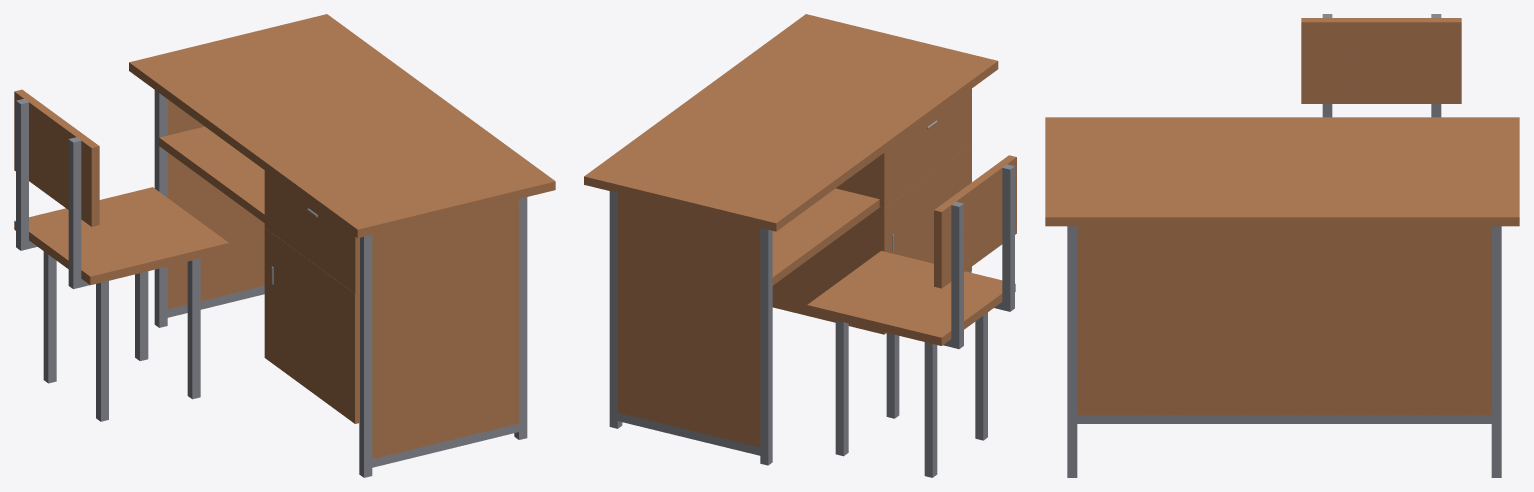
The model's file is bangv.glb.
3 renders of one model, left to right at view 1: azimuth 30°, elevation 25°; view 2: azimuth 150°, elevation 25°; view 3: azimuth 270°, elevation 25°, orthographic. The views are drawn at different scales.
Parts seen in each view (by area): view 1: Cube.019, Cube.024, Cube.026, Cube.017, Cube.029, Cube.020, Cube.023, Cube.027, Cube.031, Cube.025; view 2: Cube.019, Cube.023, Cube.025, Cube.017, Cube.029, Cube.020, Cube.027, Cube.031, Cube.026; view 3: Cube.016, Cube.019, Cube.031, Cube.020.
Boxes of the visible parts, x1,y1,x2,y2 form: Cube.019: (129,14,555,238); Cube.024: (372,199,518,459); Cube.026: (264,228,359,423); Cube.017: (16,99,200,421); Cube.029: (14,187,228,285); Cube.020: (154,90,527,477); Cube.023: (167,99,264,309); Cube.027: (264,170,359,293); Cube.031: (14,89,99,226); Cube.025: (159,126,264,222); Cube.019: (584,14,998,231); Cube.023: (617,193,760,447); Cube.025: (772,156,879,333); Cube.017: (835,164,1014,477); Cube.029: (807,251,1015,345); Cube.020: (609,191,971,465); Cube.027: (879,89,971,208); Cube.031: (934,155,1016,288); Cube.026: (879,144,971,334); Cube.016: (1077,226,1491,415); Cube.019: (1045,117,1519,226); Cube.031: (1301,18,1461,103); Cube.020: (1067,226,1501,477).
Size of the model in its own units: 2.11 by 1.66 by 2.4.
Materials: 3 (1 with a texture image).
